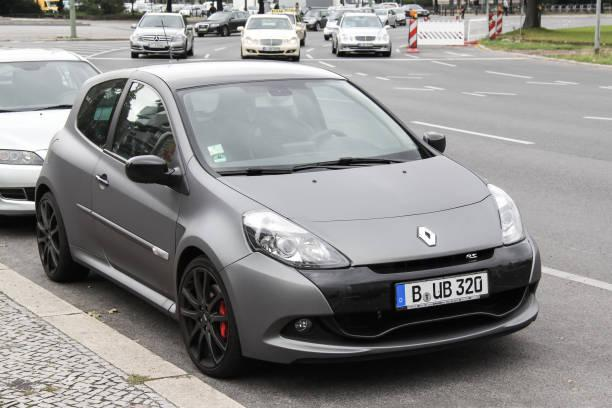Mercedes: (151, 33, 161, 43)
Renault: (412, 220, 439, 254)
